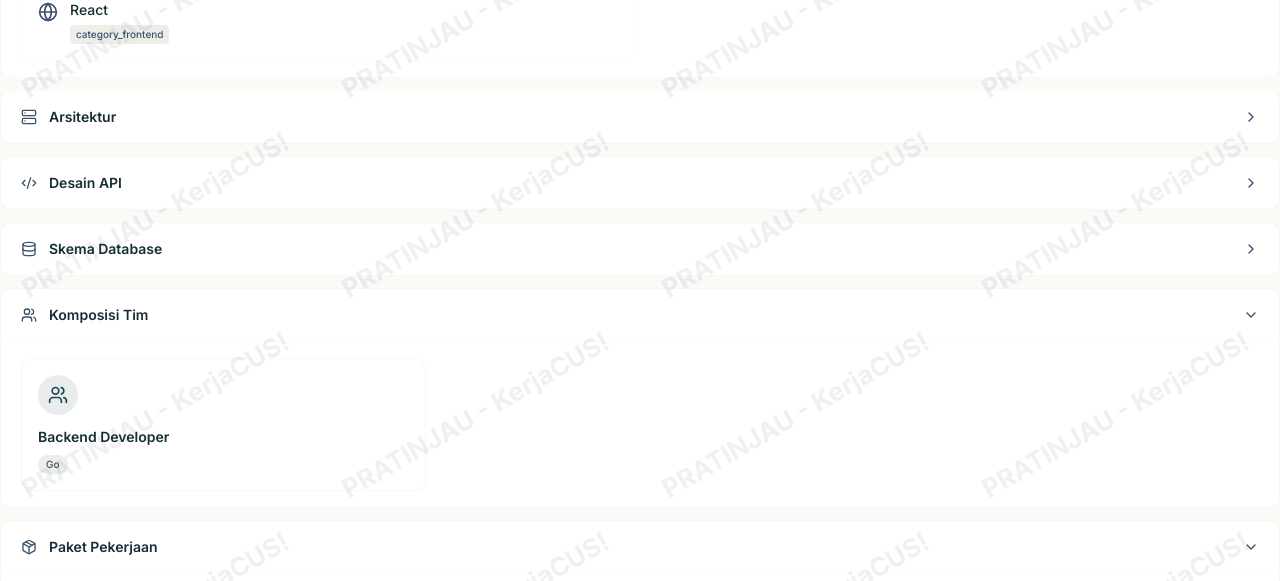
PrdDocumentBody › the buyer view › labels the schema, the architecture, the sprints and the dependencies
The image size is (1280, 581).
Click the button "Skema Database" at (106, 248), box [1,223,1279,275]
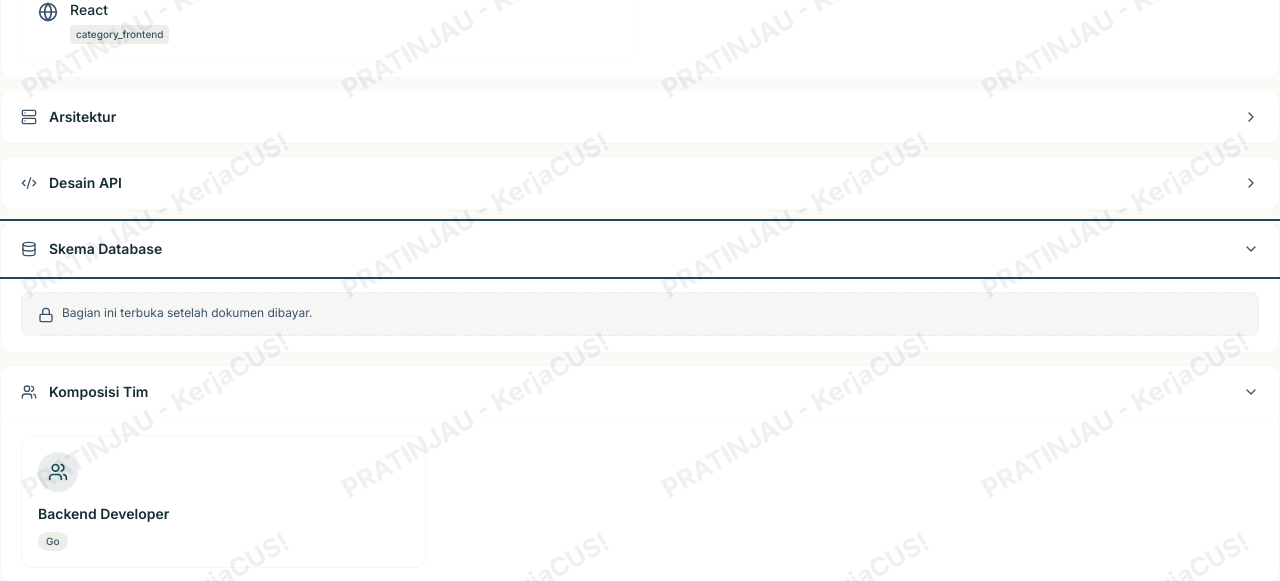
Click the button "Arsitektur" at (83, 116), box [1,91,1279,143]
(page scrolled)
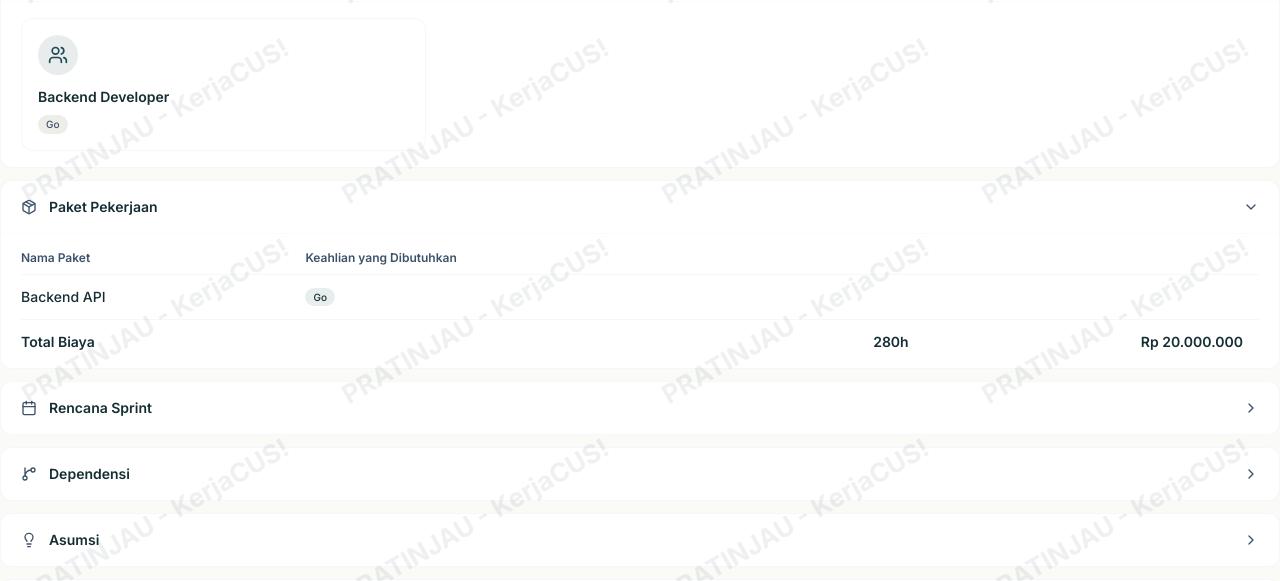
Click the button "Rencana Sprint" at (100, 408), box [1,382,1279,434]
(page scrolled)
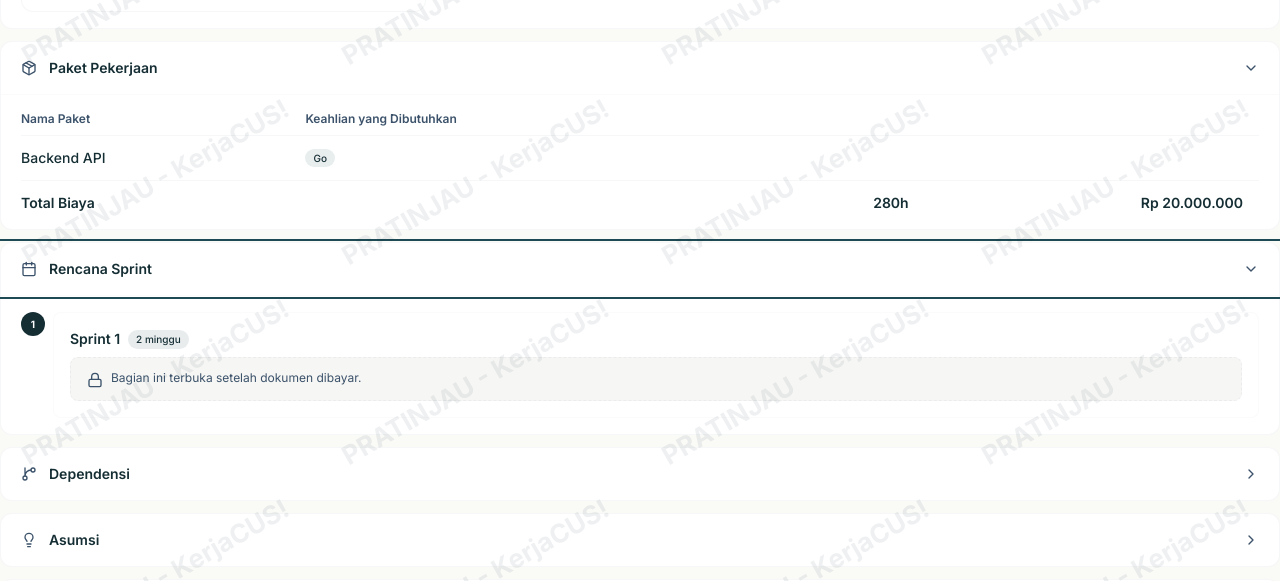
Click the button "Dependensi" at (89, 474), box [1,448,1279,500]
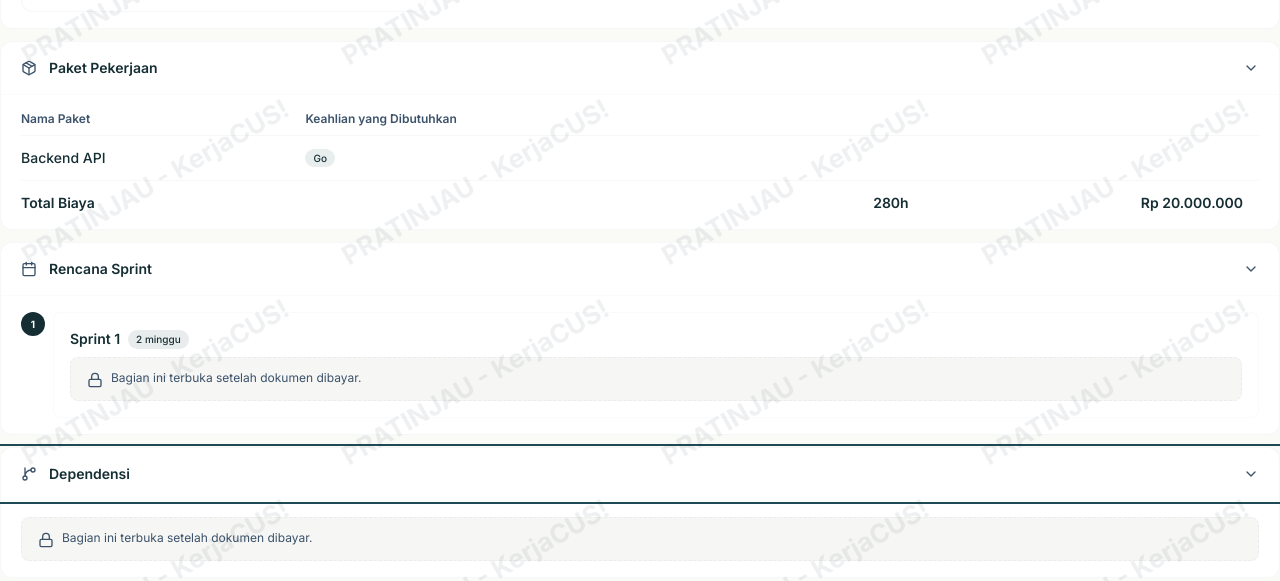
Result: the text "Bagian ini terbuka setelah dokumen dibayar." is shown 4 times
